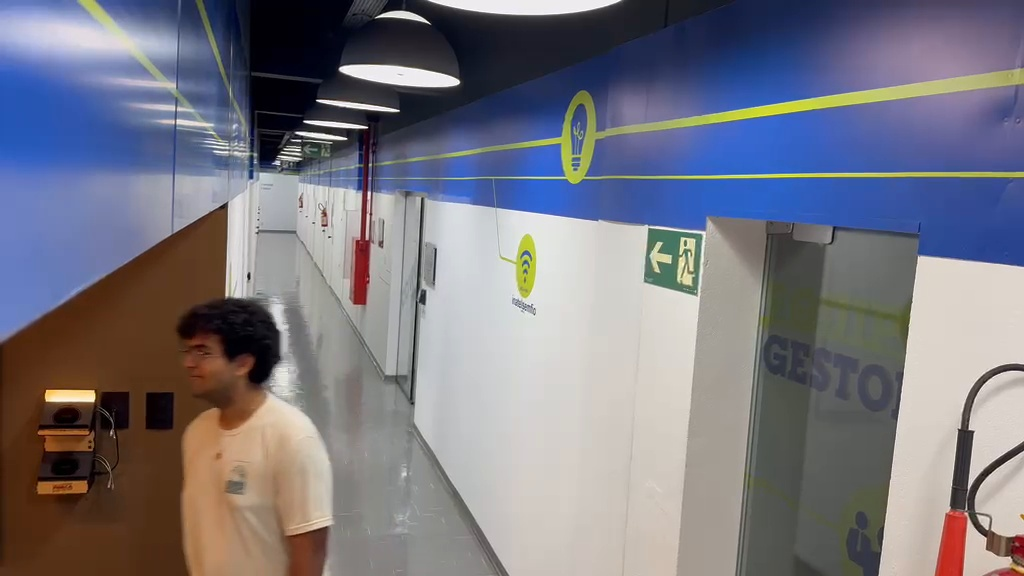person: (176, 296, 334, 574)
